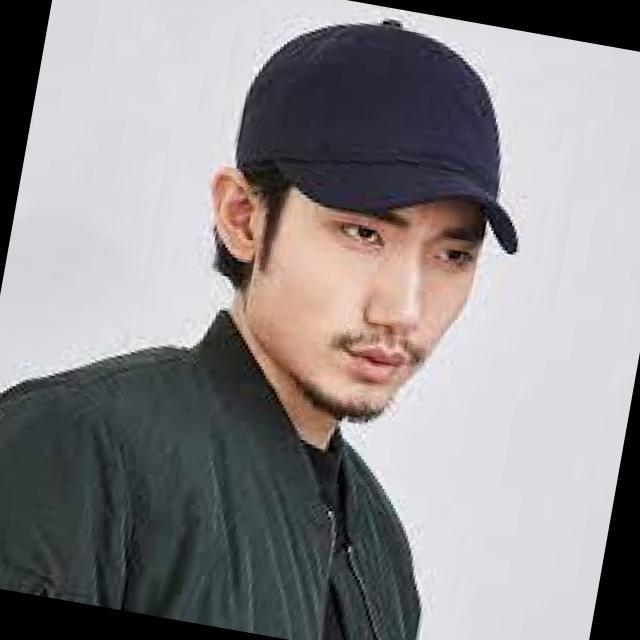cap: (214, 0, 573, 271)
